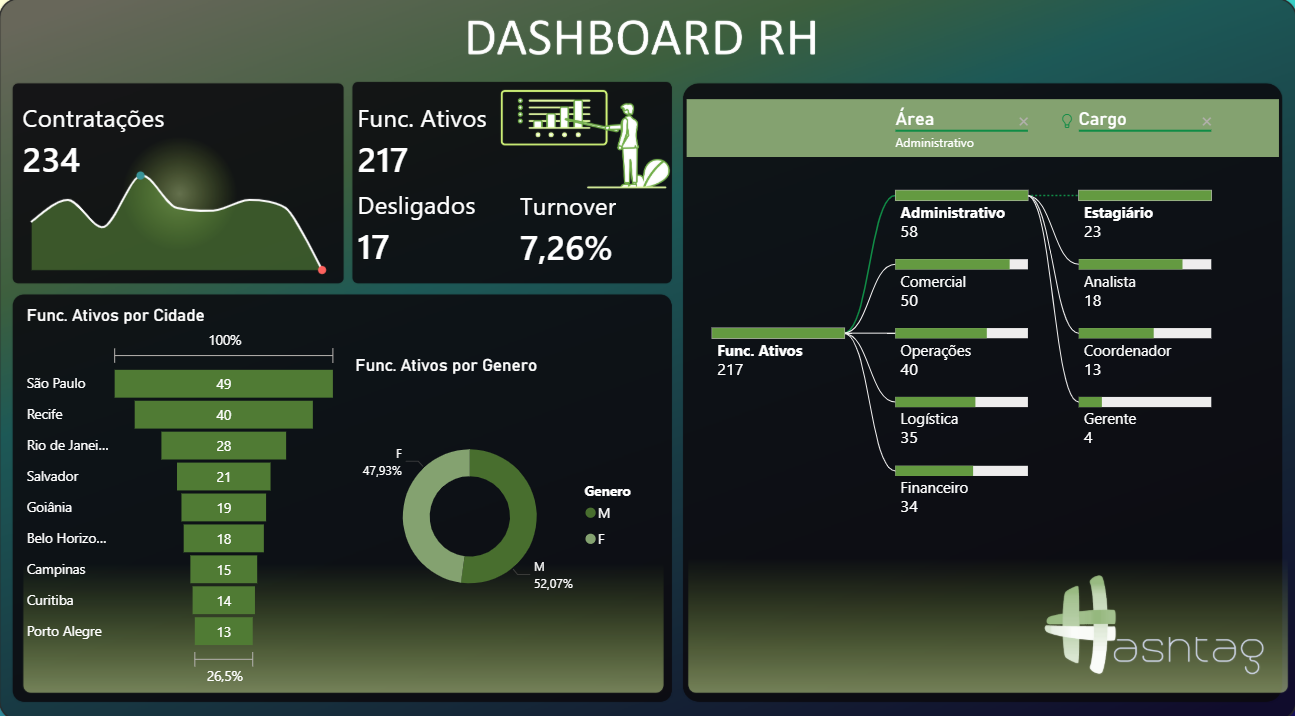

This screenshot's page, from the dashboard's own definition file:
{"tool":"powerbi","page":{"name":"DASHBOARD RH","canvas":[1280,720],"ordinal":0},"visuals":[{"type":"PBI_CV_25997FEB_F466_44FA_B562_AC4063283C4C","fields":{"measure":["Plan1.Contratações"],"axis":["Plan1.Data de Contratacao.Variation.Hierarquia de datas.Ano"]},"box":[19.2,167.4,325.2,120.8],"z":0},{"type":"cardVisual","fields":{"Data":["Plan1.Contratações"]},"box":[0,97.4,300.5,105.7],"z":1000},{"type":"cardVisual","fields":{"Data":["Plan1.Func. Ativos"]},"box":[329.3,97.4,190.7,105.7],"z":2000},{"type":"cardVisual","fields":{"Data":["BaseFuncionarios.Func. Desligados (2)"]},"box":[329.3,182.5,175.6,105.7],"z":3000},{"type":"cardVisual","fields":{"Data":["BaseFuncionarios.Turnover"]},"box":[488.5,183.9,163.3,105.7],"z":4000},{"type":"funnel","fields":{"Y":["BaseFuncionarios.Func. Ativos"],"Category":["BaseFuncionarios.Cidade"]},"box":[28.8,310.1,315.6,380.1],"z":5000},{"type":"donutChart","fields":{"Y":["BaseFuncionarios.Func. Ativos"],"Category":["BaseFuncionarios.Genero"]},"box":[350.9,359.5,300.6,299.4],"z":6000},{"type":"decompositionTreeVisual","fields":{"Analyze":["BaseFuncionarios.Func. Ativos"],"ExplainBy":["BaseFuncionarios.Área","BaseFuncionarios.Cargo"]},"box":[676.1,104.3,591.4,455.2],"z":7000}]}

Visuals, with their boxes in screenshot pixels (x1, y1, x2, y2), scaled from the page's 1280x720 canvas onto the 1295x716 screenshot:
PBI_CV_25997FEB_F466_44FA_B562_AC4063283C4C - Plan1.Contratações x Plan1.Data de Contratacao.Variation.Hierarquia de datas.Ano: bbox=(19, 166, 348, 287)
cardVisual - Plan1.Contratações: bbox=(0, 97, 304, 202)
cardVisual - Plan1.Func. Ativos: bbox=(333, 97, 526, 202)
cardVisual - BaseFuncionarios.Func. Desligados (2): bbox=(333, 181, 511, 287)
cardVisual - BaseFuncionarios.Turnover: bbox=(494, 183, 659, 288)
funnel - BaseFuncionarios.Func. Ativos x BaseFuncionarios.Cidade: bbox=(29, 308, 348, 686)
donutChart - BaseFuncionarios.Func. Ativos x BaseFuncionarios.Genero: bbox=(355, 358, 659, 655)
decompositionTreeVisual - BaseFuncionarios.Func. Ativos x BaseFuncionarios.Área: bbox=(684, 104, 1282, 556)
